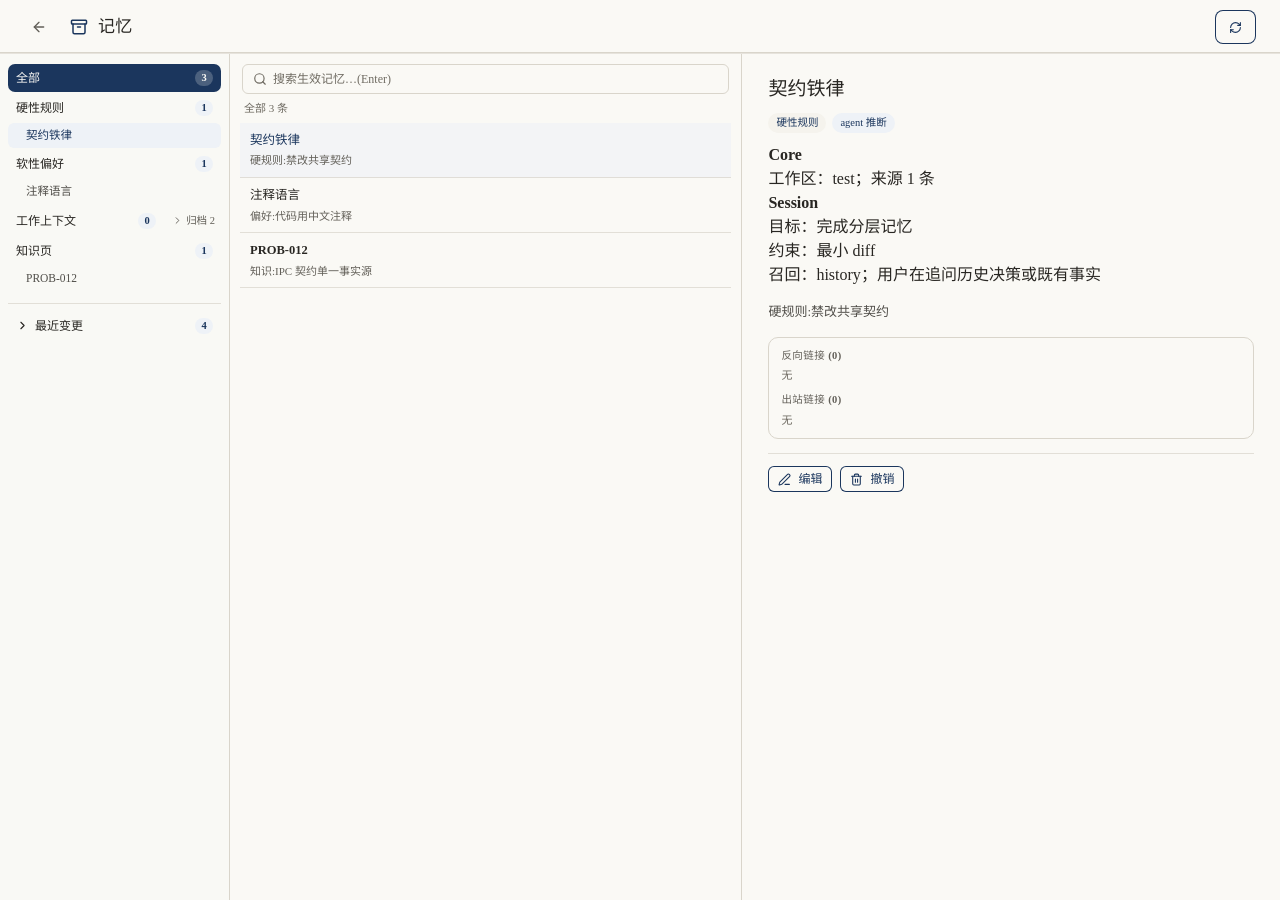
it: MemoryPage(三栏工作台 + 操作) › 中栏只渲染生效条目;归档折叠进左栏灰态行,展开可见且只读
The width and height of the screenshot is (1280, 900).
Expected: the text "旧习惯(已撤销)" is not shown
Click the button "归档 2" at [194, 220], box [166,209,221,232]
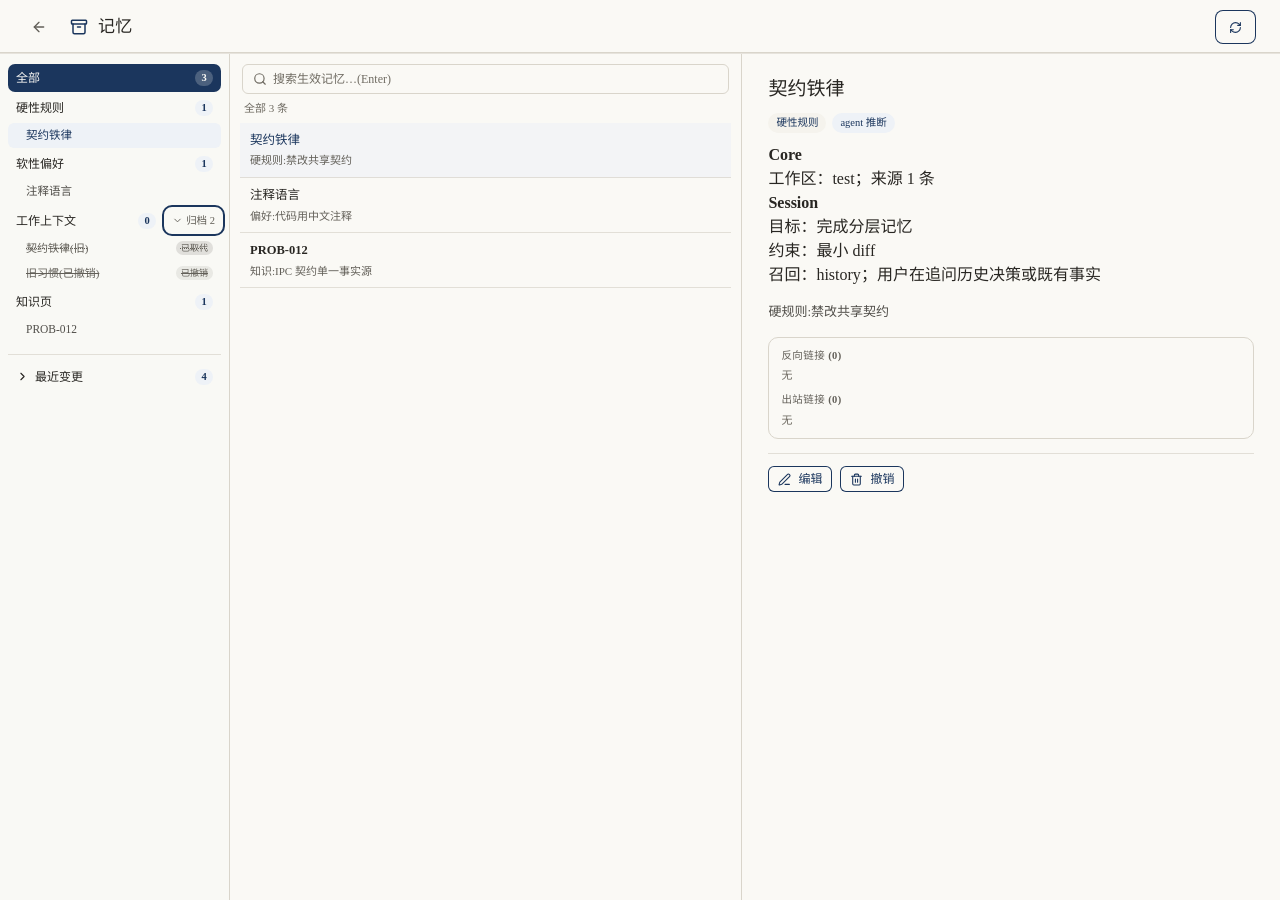
Now the button "旧习惯(已撤销) 已撤销" is shown
Now the text "已撤销" is shown, box [176,266,213,280]
Click the button "旧习惯(已撤销) 已撤销" at [114, 273], box [8,261,221,286]
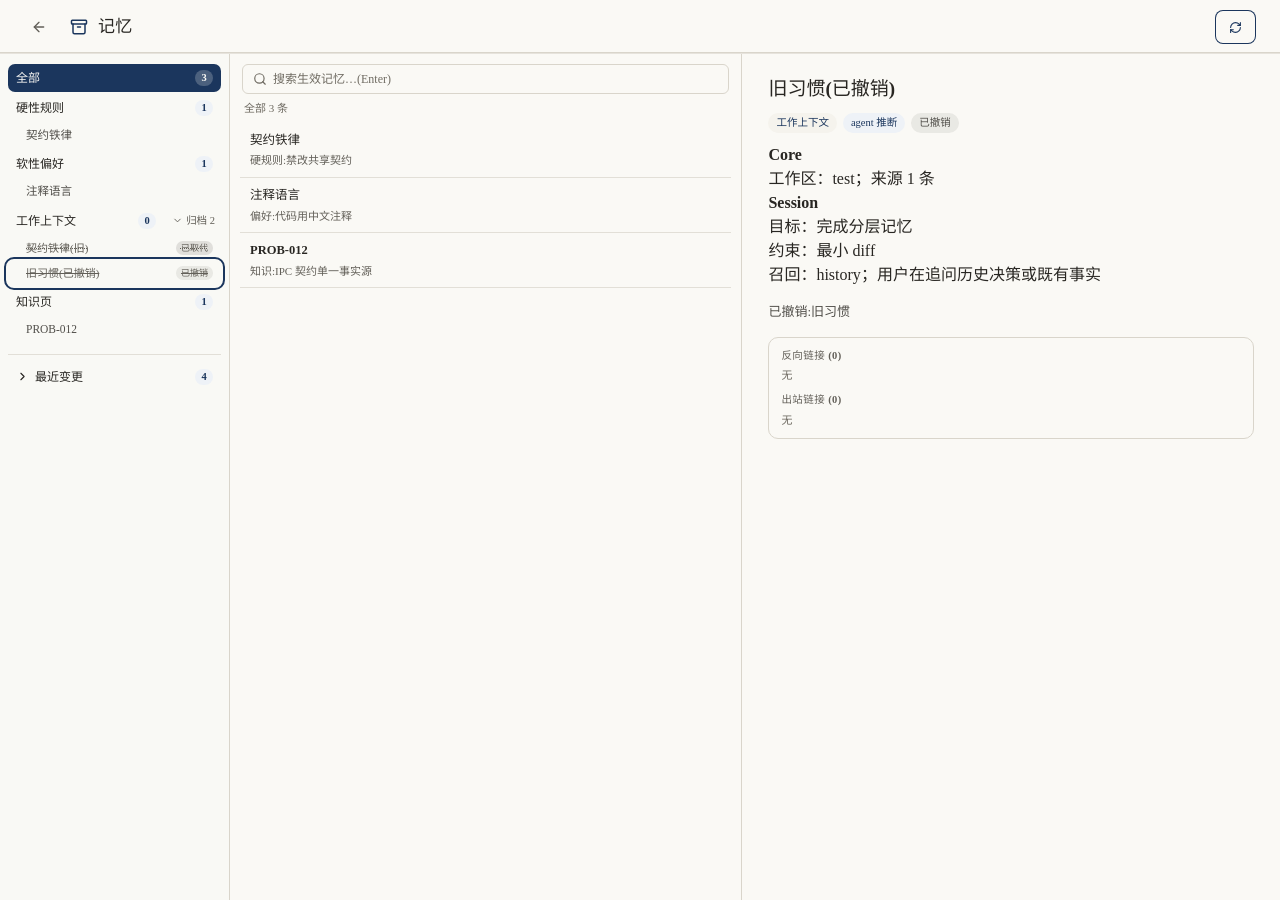
Expected: the element with test id "memory-doc" is shown, [742,54,1279,475]
Now the text "已撤销" next to "agent 推断" is shown, box [919,117,951,128]
Now the button "编辑" is gone
